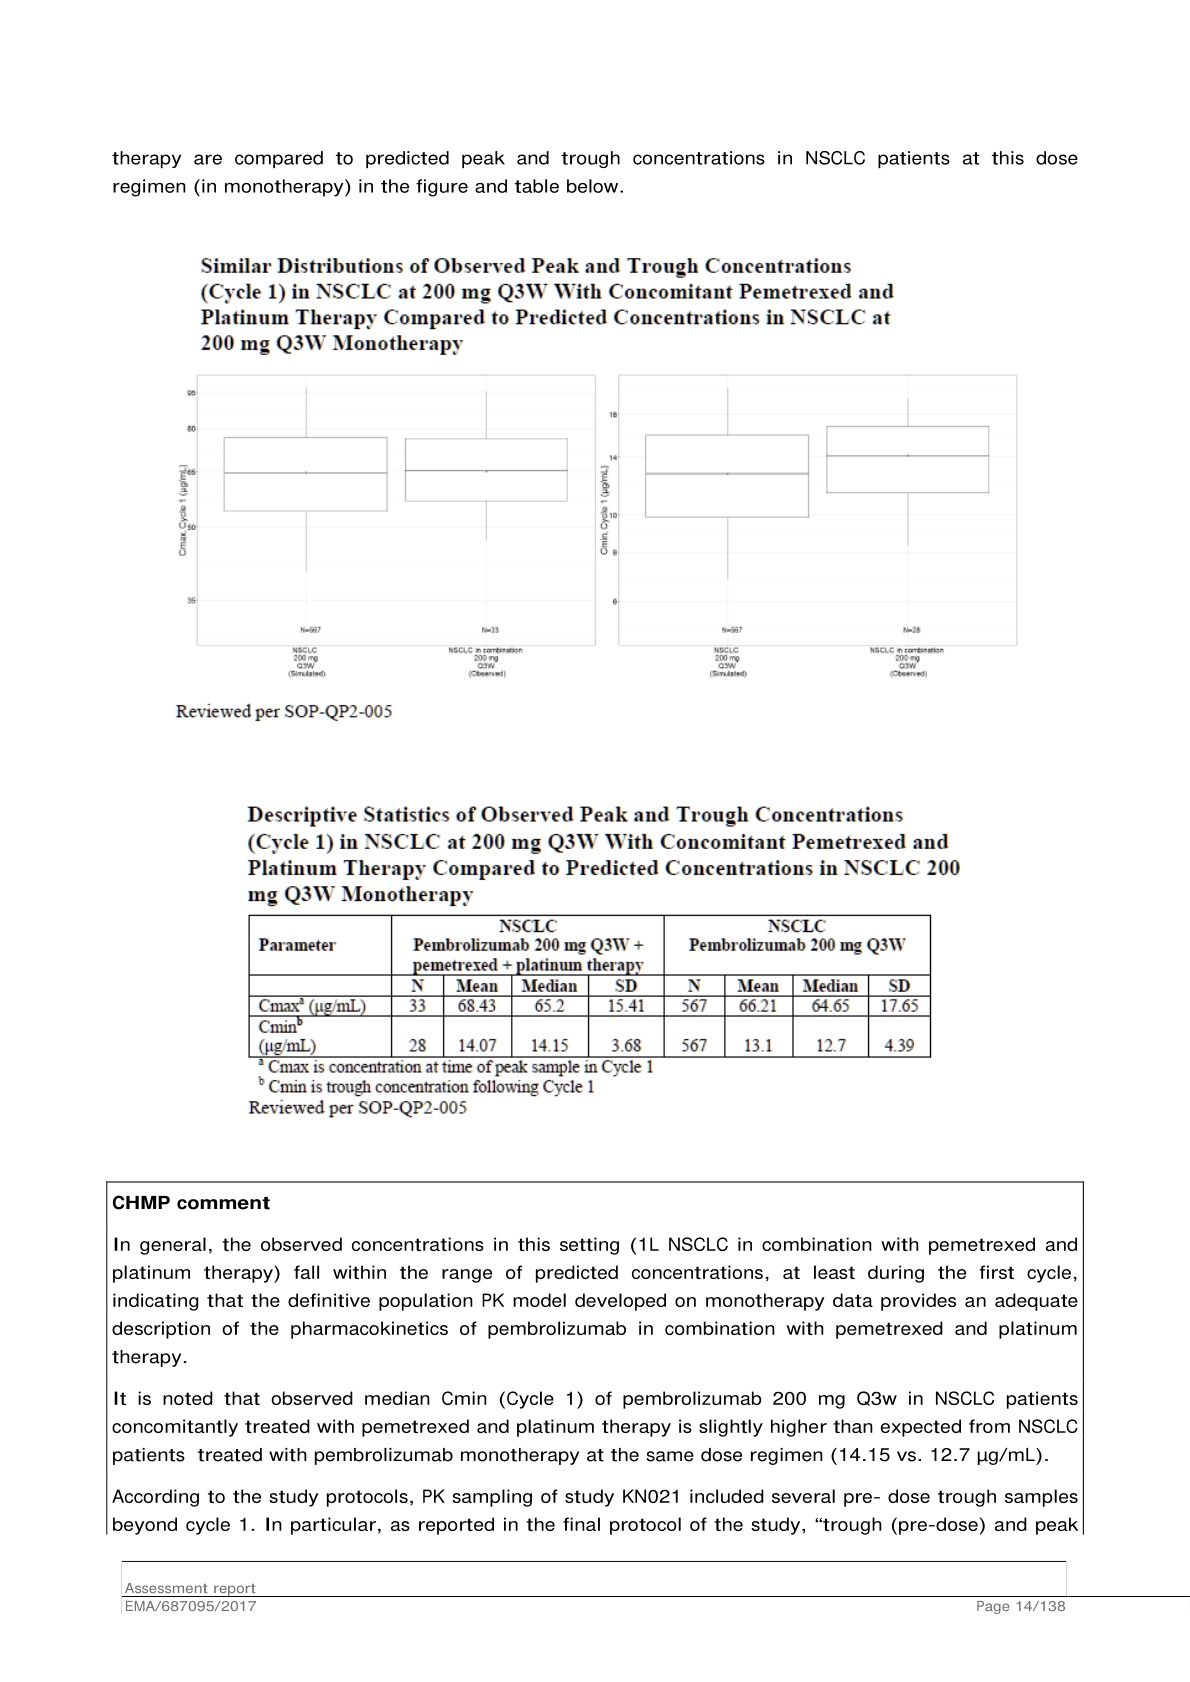merged_cells: (249, 914, 932, 1057)
